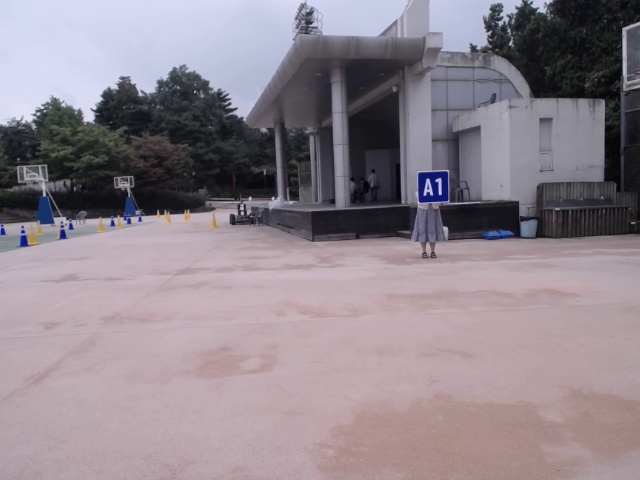delivery_a1: (417, 170, 449, 203)
